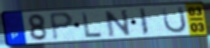8: (28, 13, 49, 42)
I: (138, 7, 150, 37)
L: (80, 11, 104, 39)
N: (103, 9, 133, 38)
P: (48, 11, 76, 42)
U: (161, 6, 188, 35)
